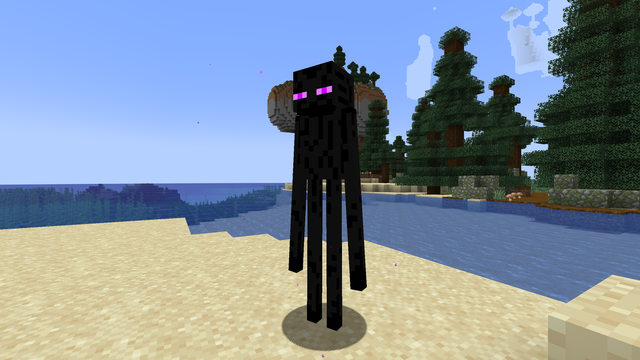endermens: (289, 48, 361, 345)
